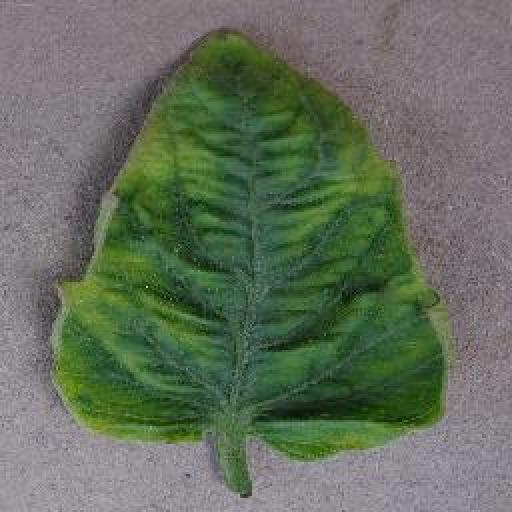disease_tomato: (46, 28, 450, 458)
